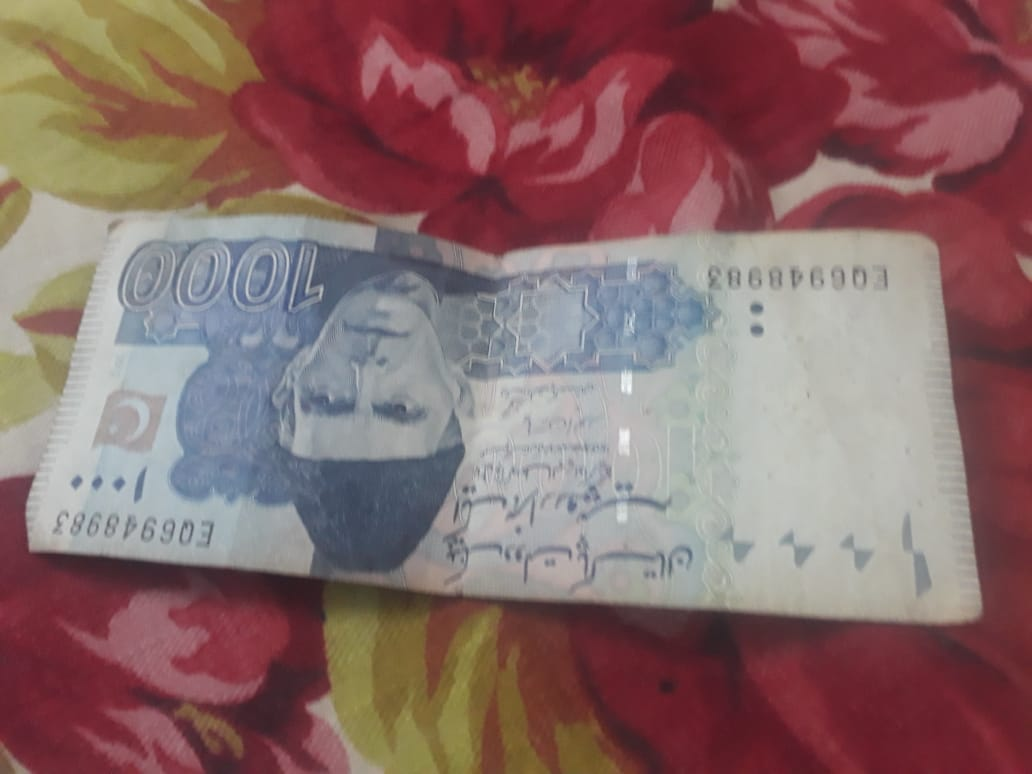1000 rupee: (25, 168, 992, 641)
